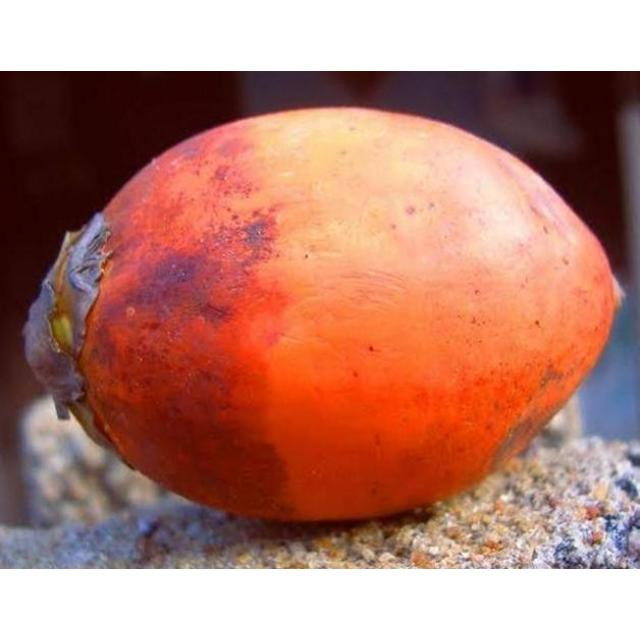good: (23, 107, 624, 527)
